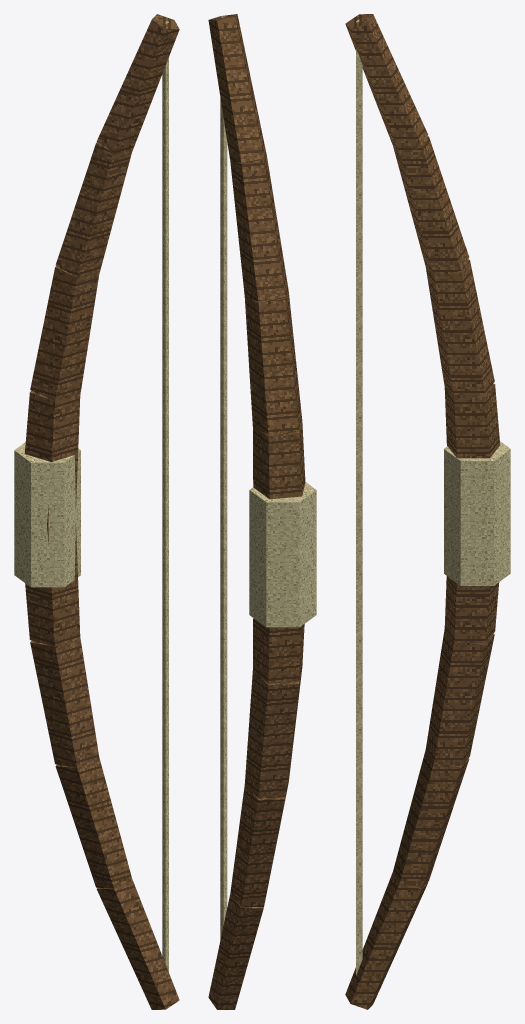
The model's file is twig_bow.glb.
3 views of the same model, side by side, from view 1: azimuth 90°, elevation 25°; view 2: azimuth 210°, elevation 25°; view 3: azimuth 270°, elevation 25° (orthographic).
Parts seen in each view (by area): view 1: Body.004; view 2: Body.004; view 3: Body.004.
Part boxes in pixels (x1=…): Body.004: x1=14, y1=14, x2=179, y2=1009; Body.004: x1=208, y1=14, x2=316, y2=1009; Body.004: x1=345, y1=14, x2=510, y2=1009.
Bounding box in the file's own units: 0.0594 × 1.11 × 0.1682.
2 materials, 2 textured.
